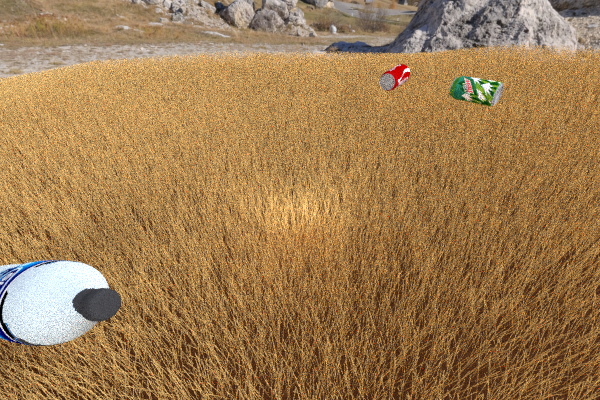bottle: (0, 260, 121, 346)
can: (448, 75, 503, 106), (379, 64, 410, 90)
